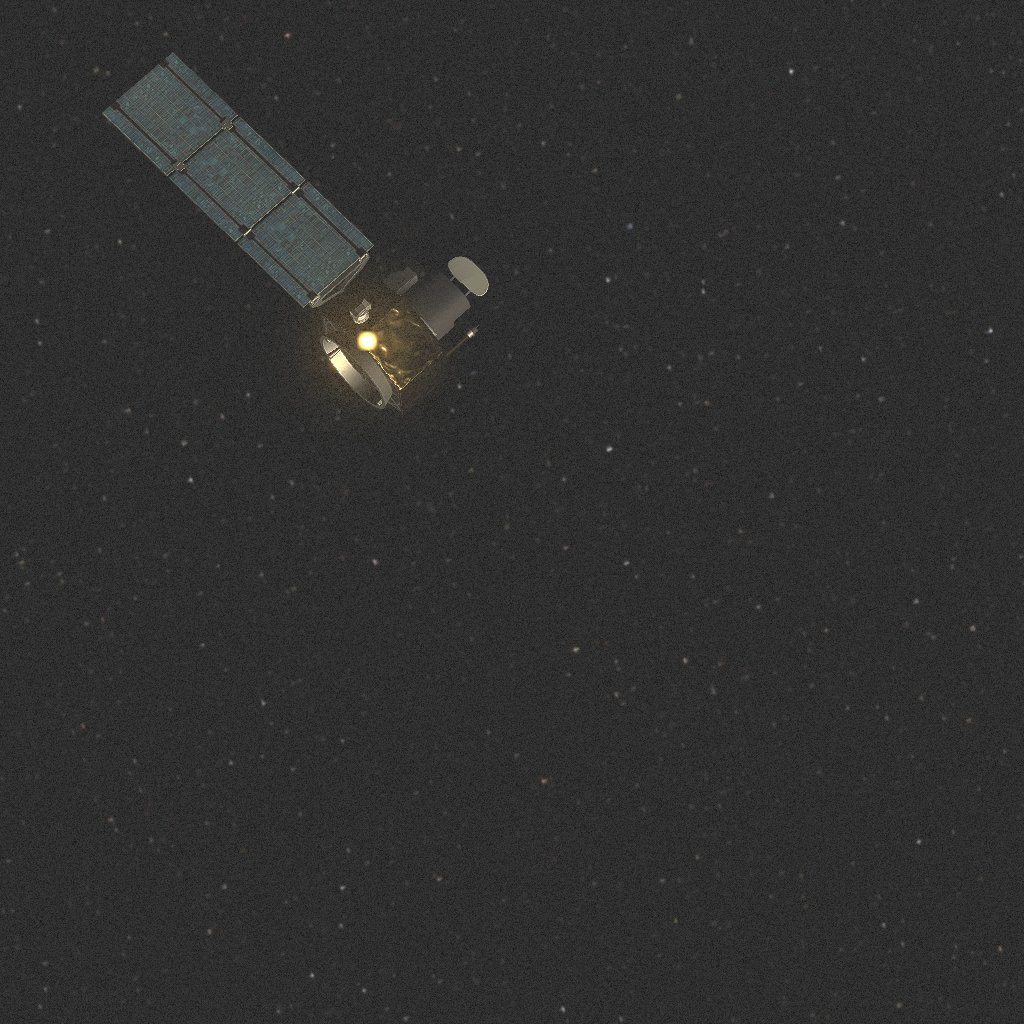earth_observation_sat_1: (87, 43, 480, 404)
